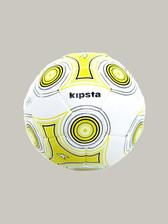other: (24, 50, 148, 171)
